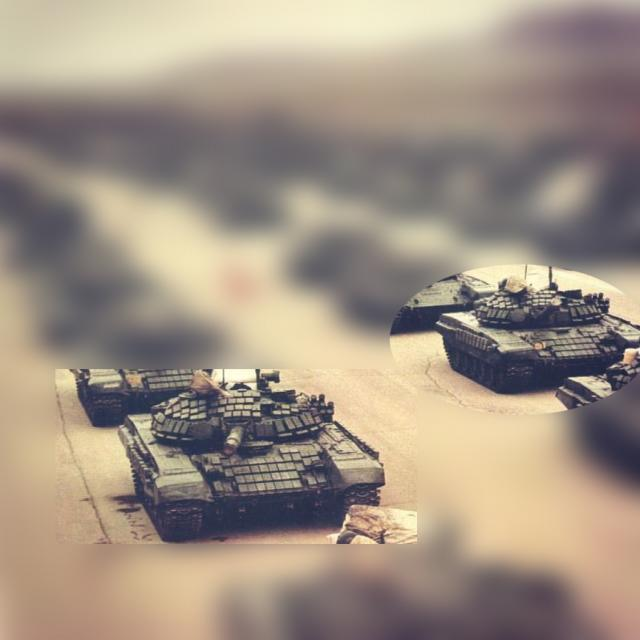tank: (121, 370, 387, 542), (432, 281, 639, 387)
